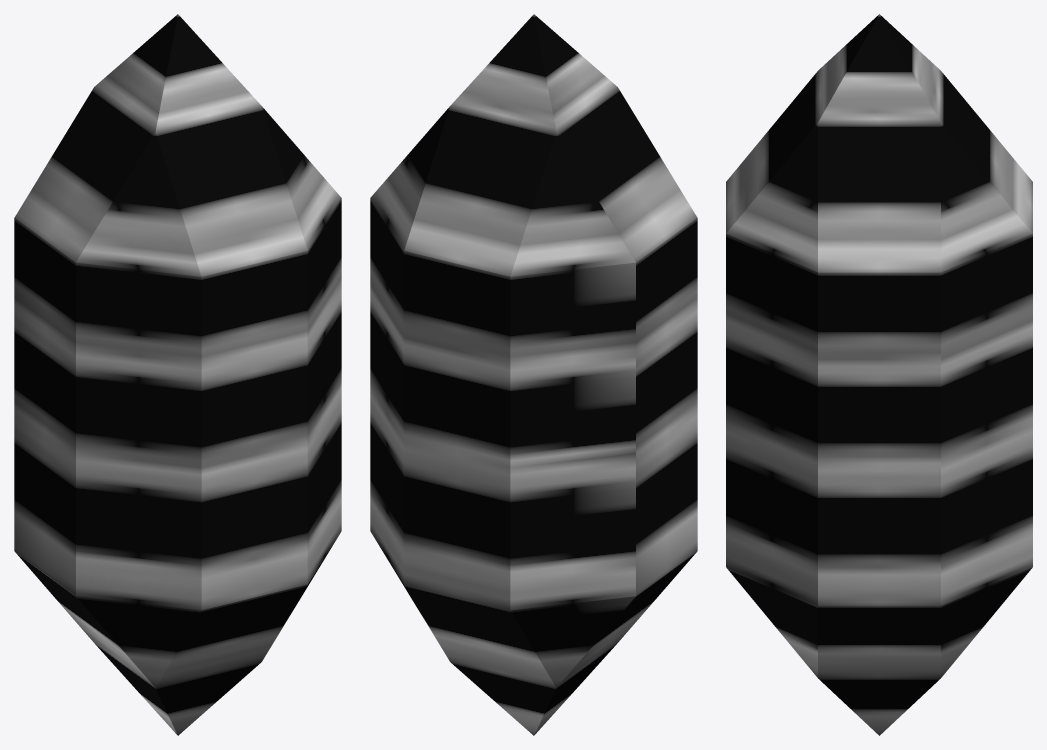
File: gem.obj
The picture shows the model from 3 angles, left to right: view 1: azimuth 30°, elevation 25°; view 2: azimuth 150°, elevation 25°; view 3: azimuth 270°, elevation 25°; orthographic projection.
Visible parts, largest first — view 1: Cube_Cube.001; view 2: Cube_Cube.001; view 3: Cube_Cube.001.
Boxes of the visible parts, x1,y1,x2,y2 form: Cube_Cube.001: (14,14,341,735); Cube_Cube.001: (370,14,697,735); Cube_Cube.001: (726,14,1032,735).
Bounding box in the file's own units: 0.1562 × 0.4058 × 0.1562.
